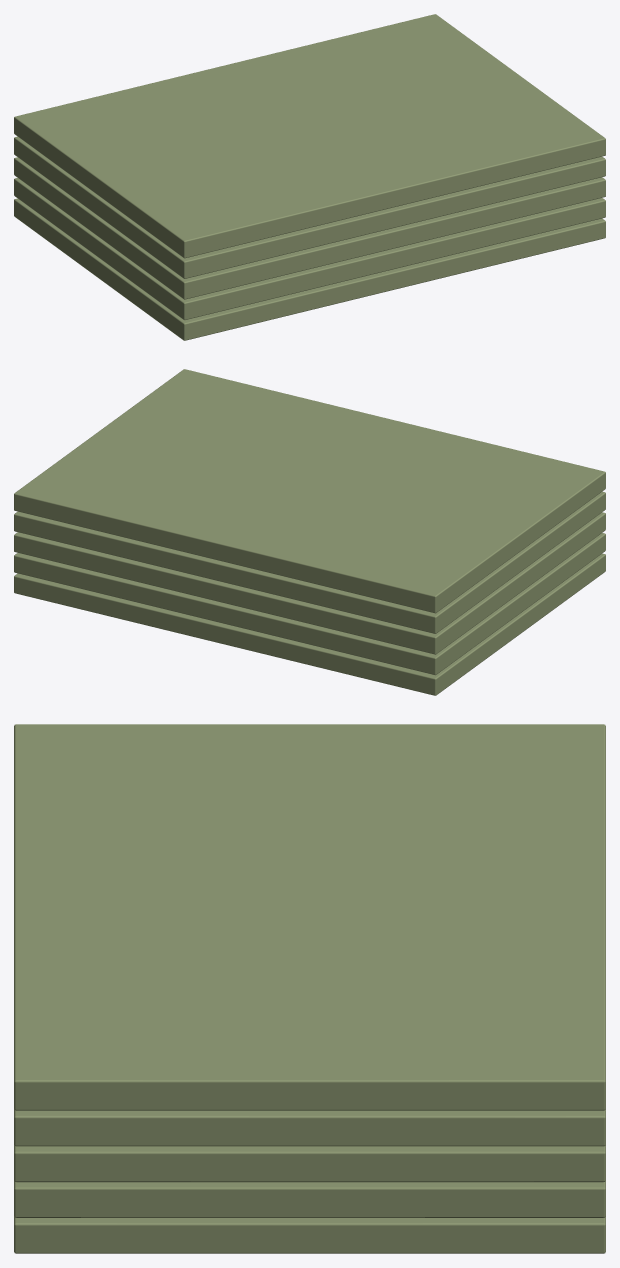
Rendered from scavengers-loot-library-folded-canvas-caf44a5f__2661.glb.
3 views of the same model, one above another, from view 1: azimuth 30°, elevation 25°; view 2: azimuth 150°, elevation 25°; view 3: azimuth 270°, elevation 25° (orthographic). The views are drawn at different scales.
Parts seen in each view (by area): view 1: folded-canvas; view 2: folded-canvas; view 3: folded-canvas.
Boxes of the visible parts, left/top/right/bottom form: folded-canvas: left=14, top=14, right=605, bottom=340; folded-canvas: left=14, top=369, right=605, bottom=695; folded-canvas: left=14, top=724, right=605, bottom=1253.
Size of the model in its own units: 0.3 by 0.068 by 0.21.
